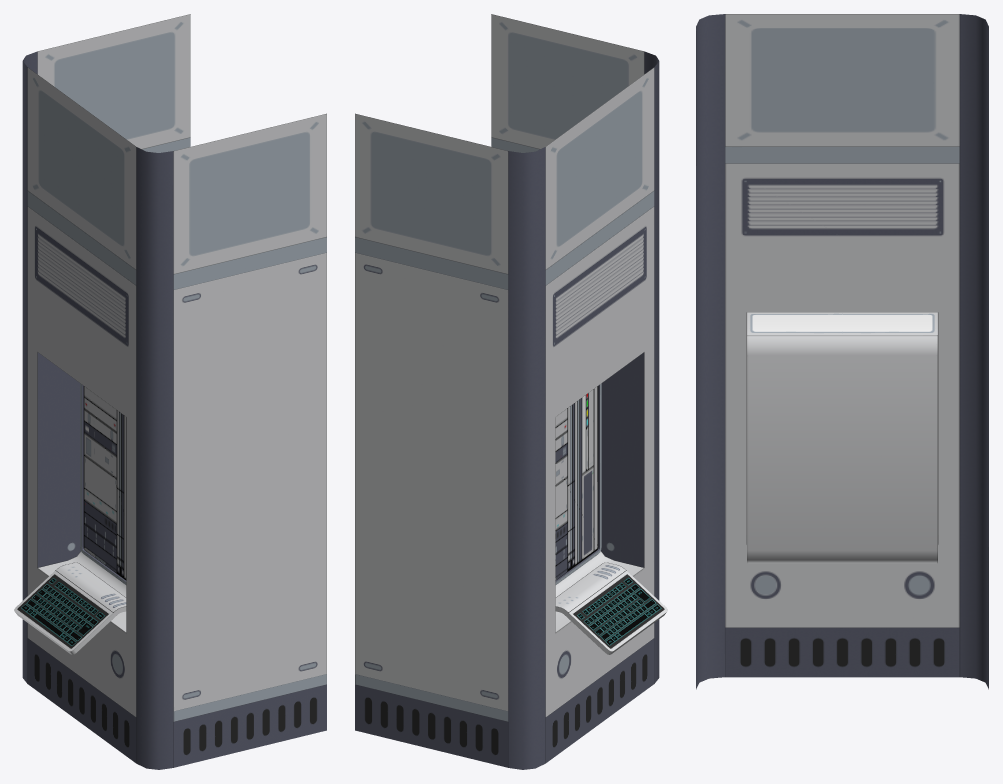
Rendered from Wall_Pillar_01.FBX.
The picture shows the model from 3 angles, left to right: view 1: azimuth 30°, elevation 25°; view 2: azimuth 150°, elevation 25°; view 3: azimuth 270°, elevation 25°; orthographic projection. The views are drawn at different scales.
Parts seen in each view (by area): view 1: Wall_Pillar_01, Screen; view 2: Wall_Pillar_01, Screen; view 3: Wall_Pillar_01.
Part boxes in pixels (x1,y1,x2,y2): Wall_Pillar_01: [14, 14, 326, 769]; Screen: [83, 386, 126, 580]; Wall_Pillar_01: [355, 14, 667, 769]; Screen: [555, 386, 598, 580]; Wall_Pillar_01: [696, 14, 988, 689].
Size of the model in its own units: 1.84 by 5 by 2.
4 materials, 4 textured.
